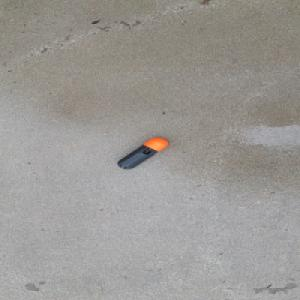PlasticPart: (116, 137, 169, 169)
